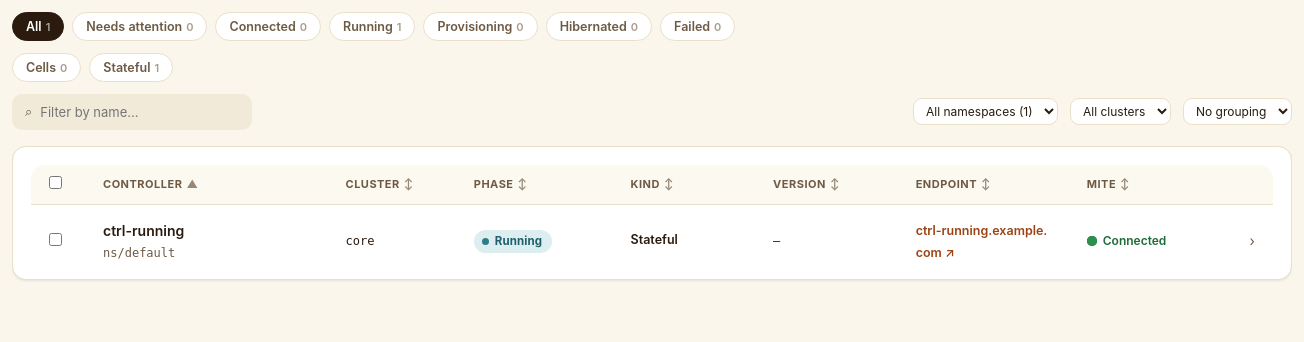
it: BroodControllerPicker › Phase filter › shows "No controllers match the current filters" when filter yields no results
This screenshot has width=1304, height=342.
What coordinates should you click on to do the following:
click the button "Failed 0"
I would click on:
 (698, 26)
Its box is [660, 12, 735, 41].
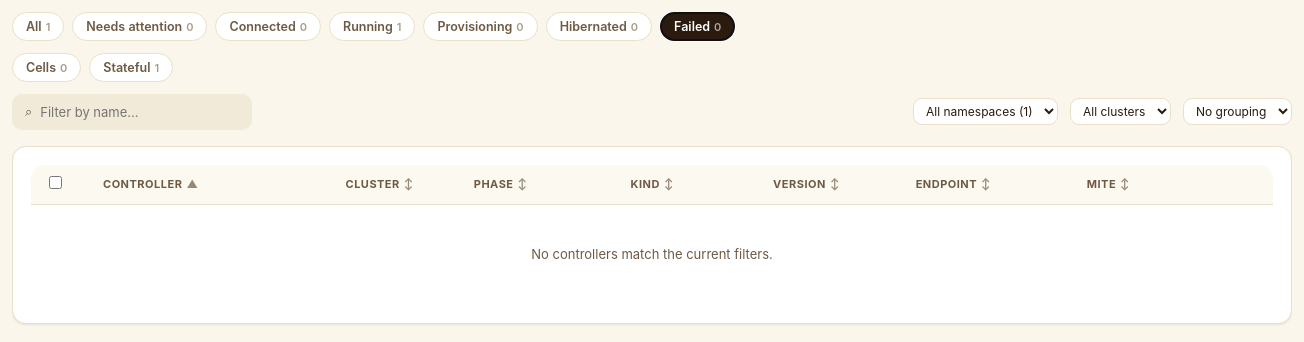
Now the text "No controllers match the current filters." is shown, box [531, 246, 773, 262]
